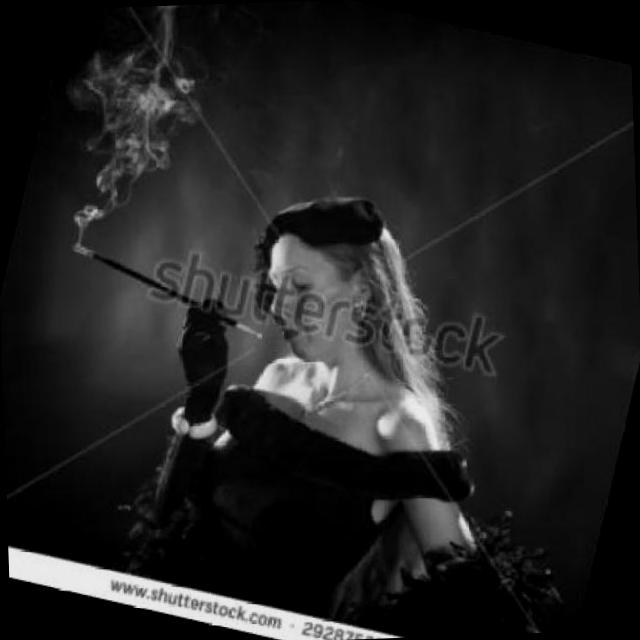smoke: (68, 240, 95, 258)
